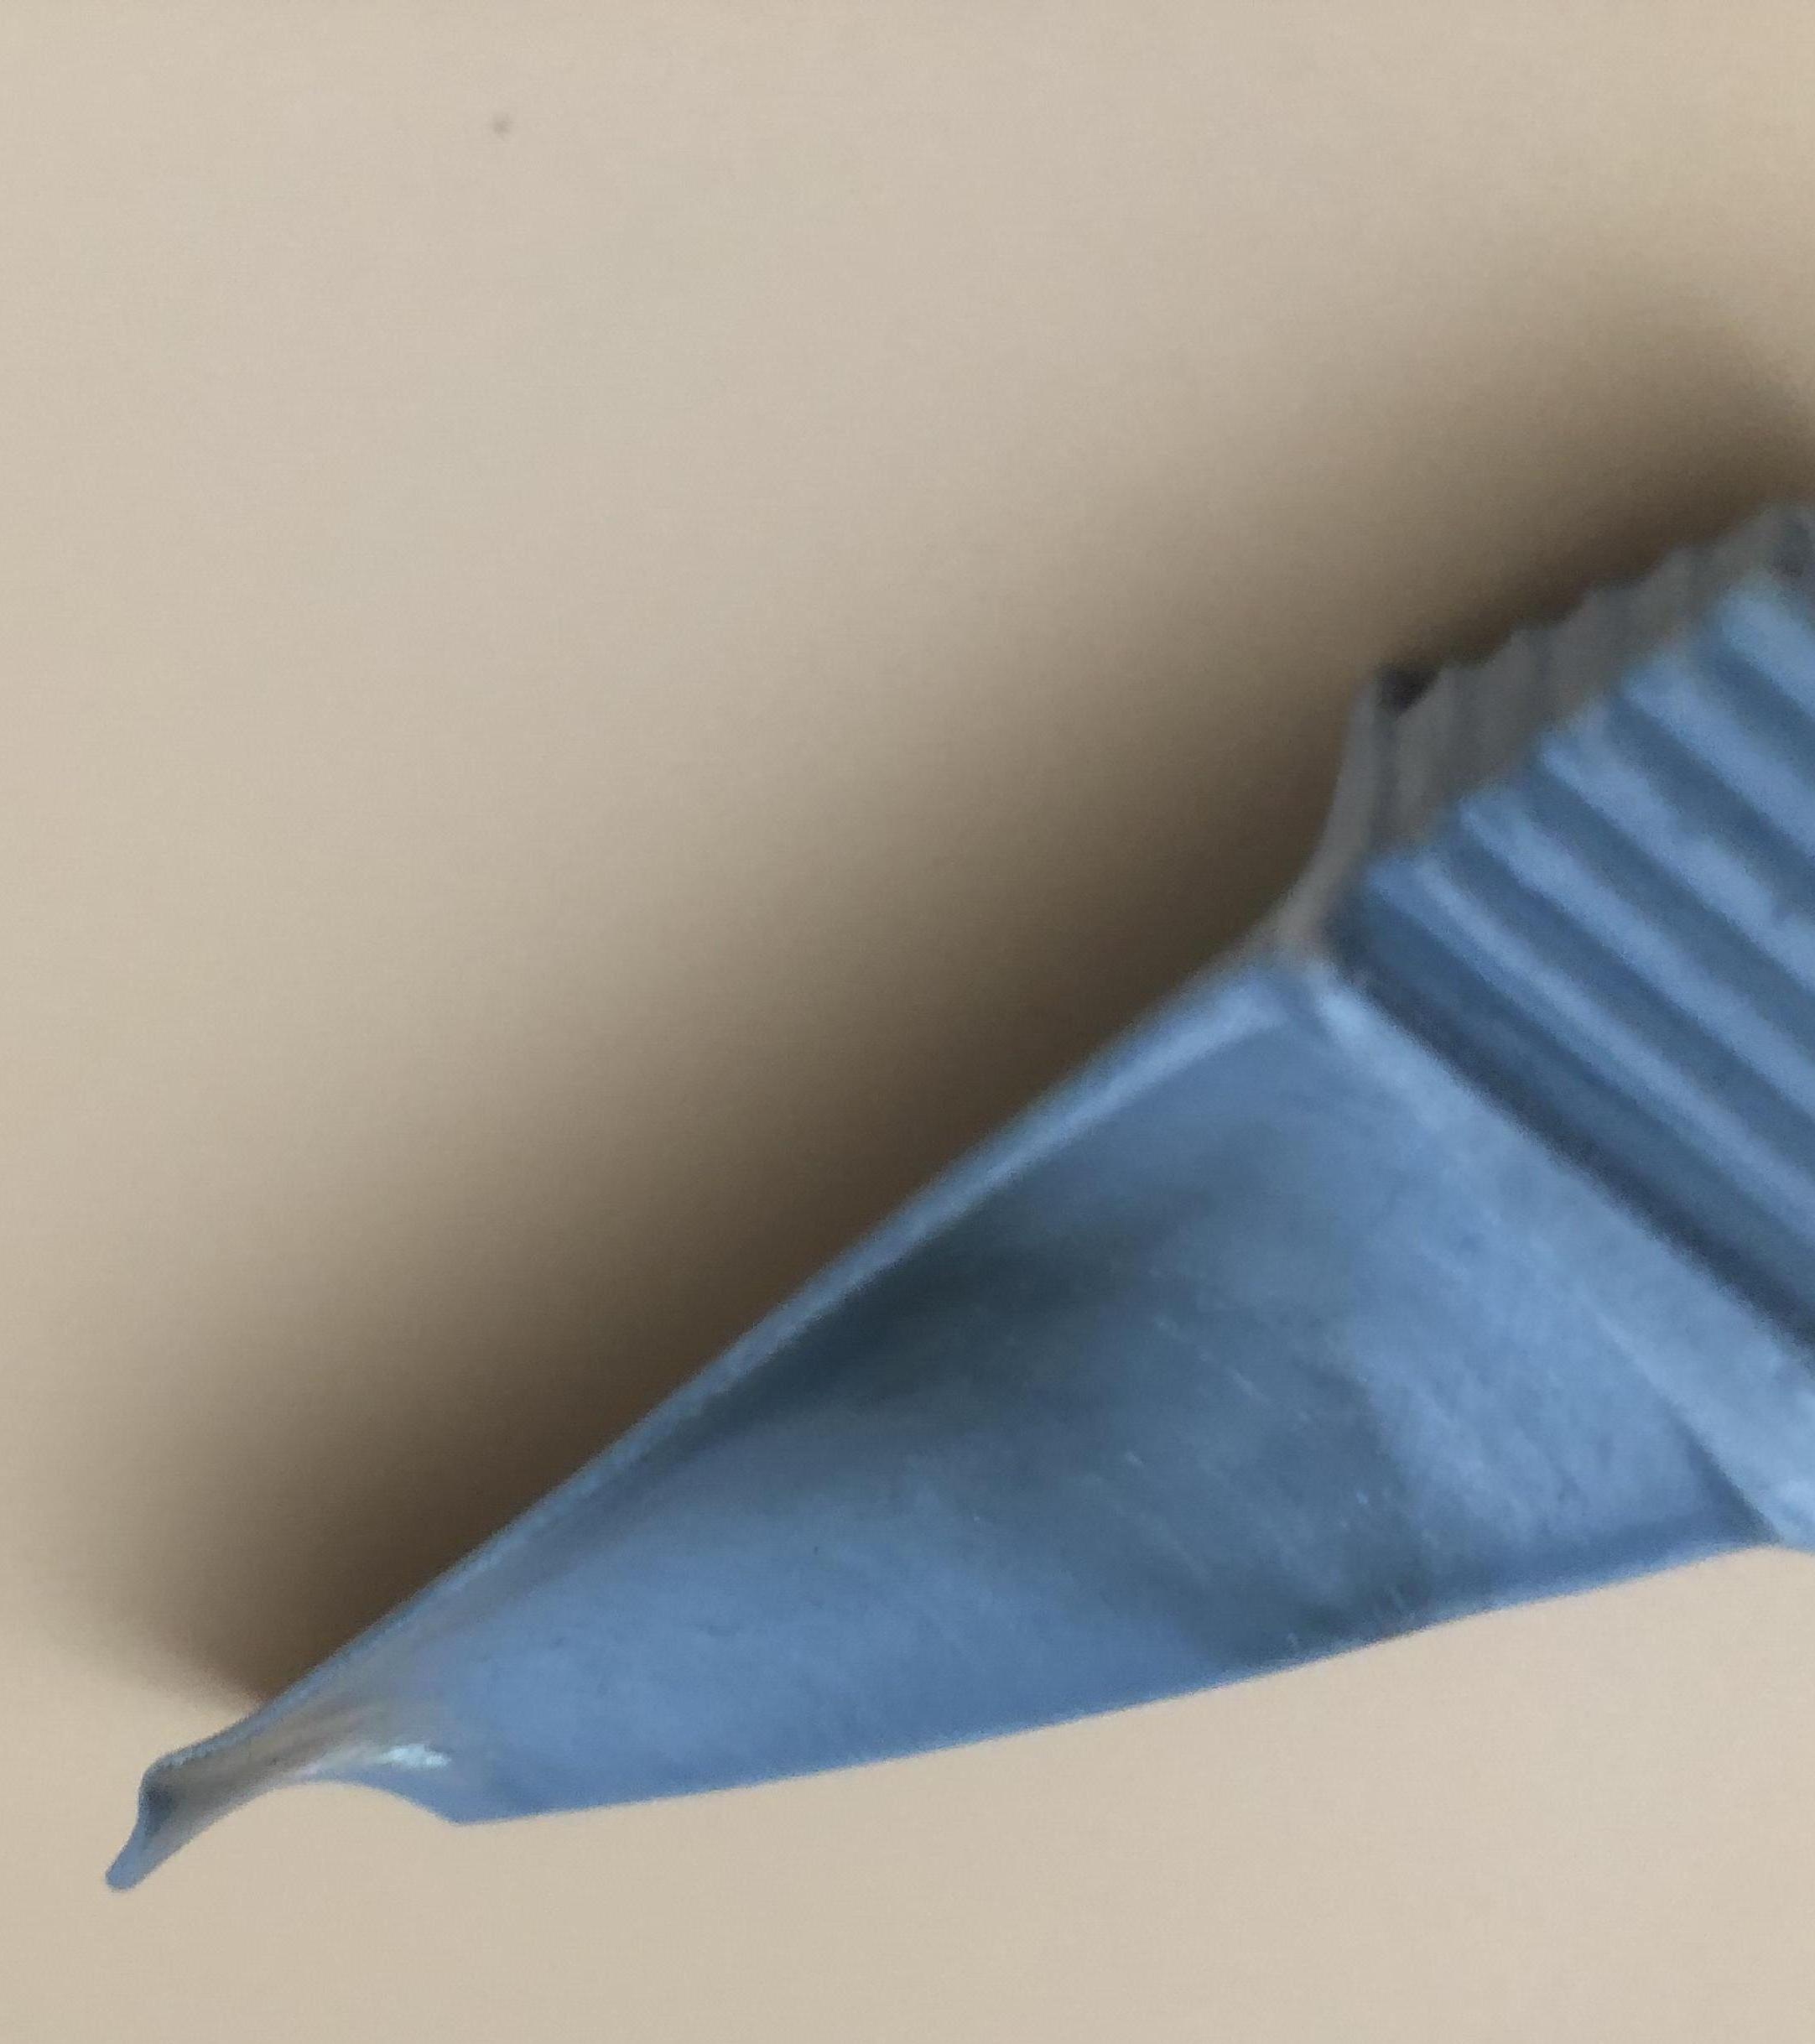ablation: (778, 1289, 1281, 1496)
